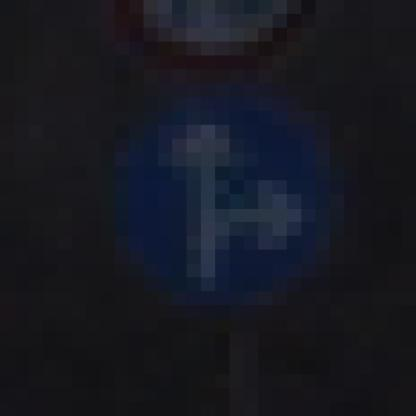Straight or Right: (73, 84, 345, 348)
